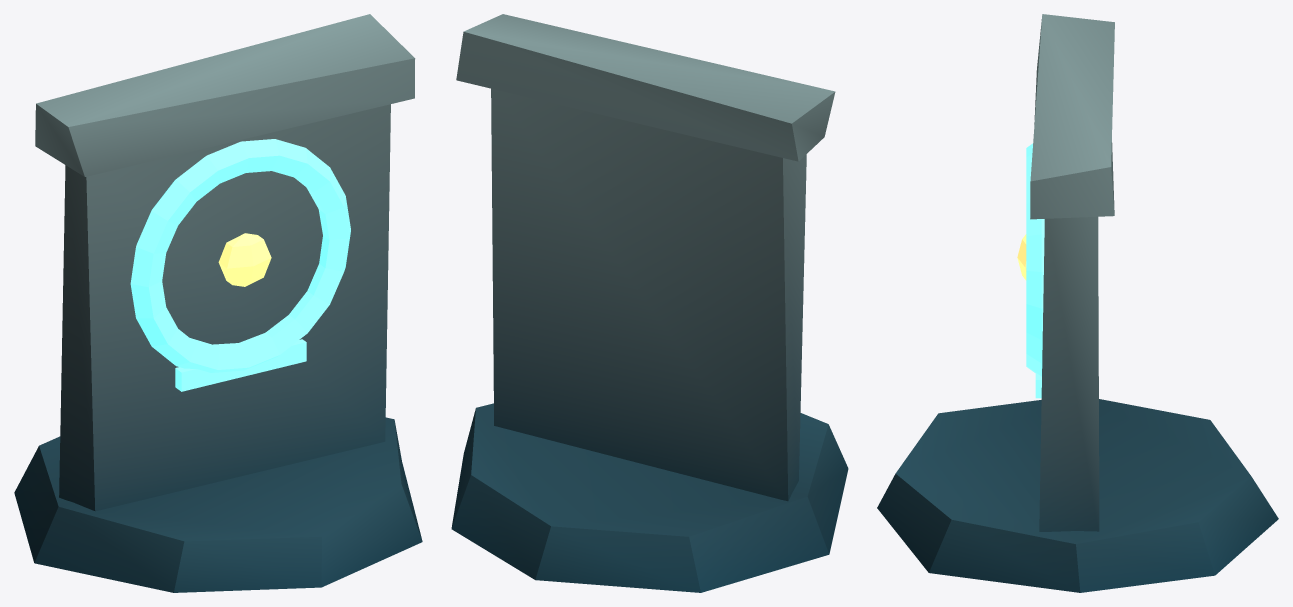
Rendered from item_relic_tablet.glb.
The picture shows the model from 3 angles, left to right: view 1: azimuth 30°, elevation 25°; view 2: azimuth 150°, elevation 25°; view 3: azimuth 270°, elevation 25°; orthographic projection. The views are drawn at different scales.
Visible parts, largest first — view 1: item_relic_tablet_stone, item_relic_tablet_glow, item_relic_tablet_warm; view 2: item_relic_tablet_stone; view 3: item_relic_tablet_stone, item_relic_tablet_glow.
Part boxes in pixels (x1,y1,x2,y2): item_relic_tablet_stone: (14,14,422,592); item_relic_tablet_glow: (130,139,350,391); item_relic_tablet_warm: (218,233,271,286); item_relic_tablet_stone: (451,14,848,592); item_relic_tablet_stone: (877,14,1278,592); item_relic_tablet_glow: (1026,143,1044,398).
Bounding box in the file's own units: 1 × 1.17 × 0.9943.
